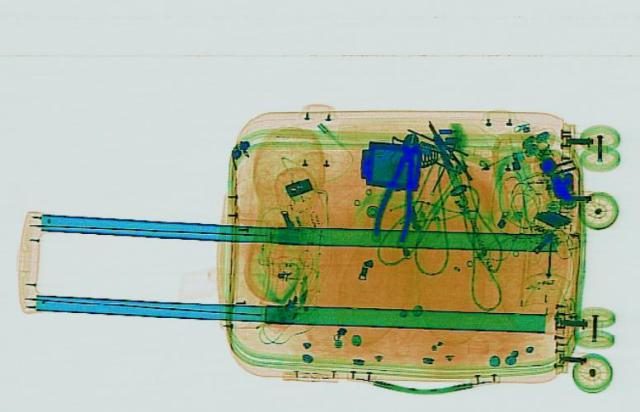Pliers: (368, 130, 429, 240)
